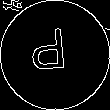P_S: (34, 28, 76, 82)
